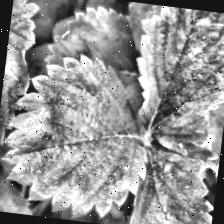Powdery Mildew Leaf: (0, 44, 161, 224)
